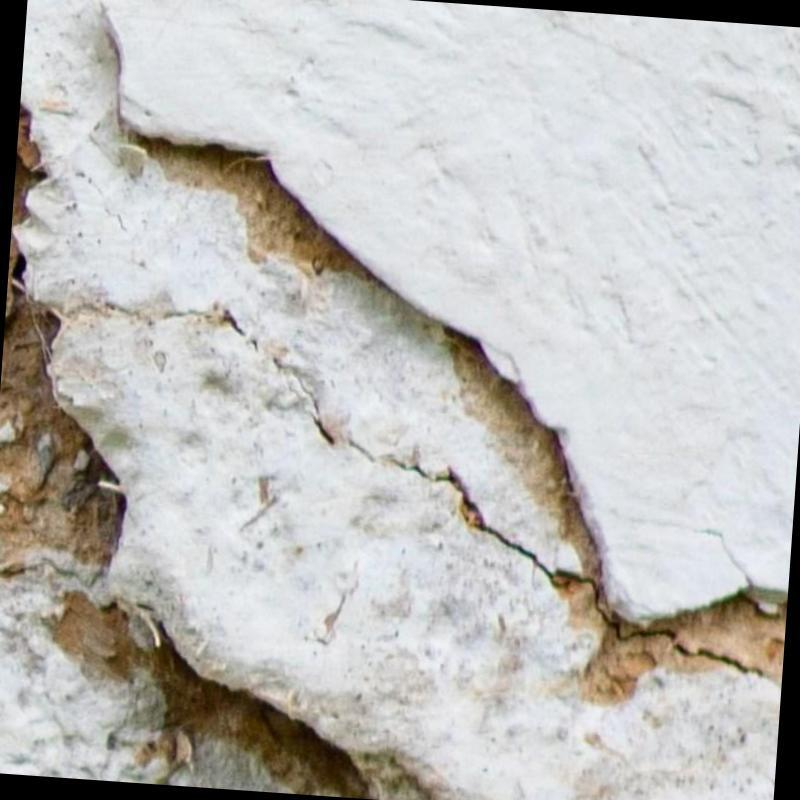pothole: (49, 301, 768, 674)
